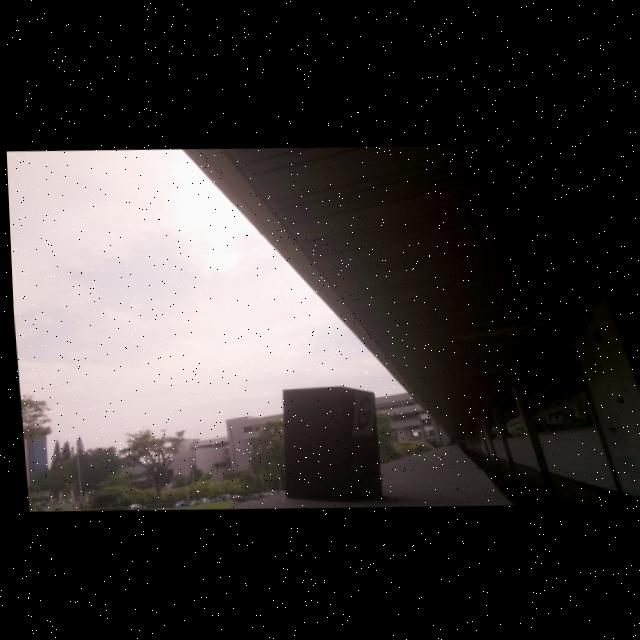G: (353, 394, 367, 427)
